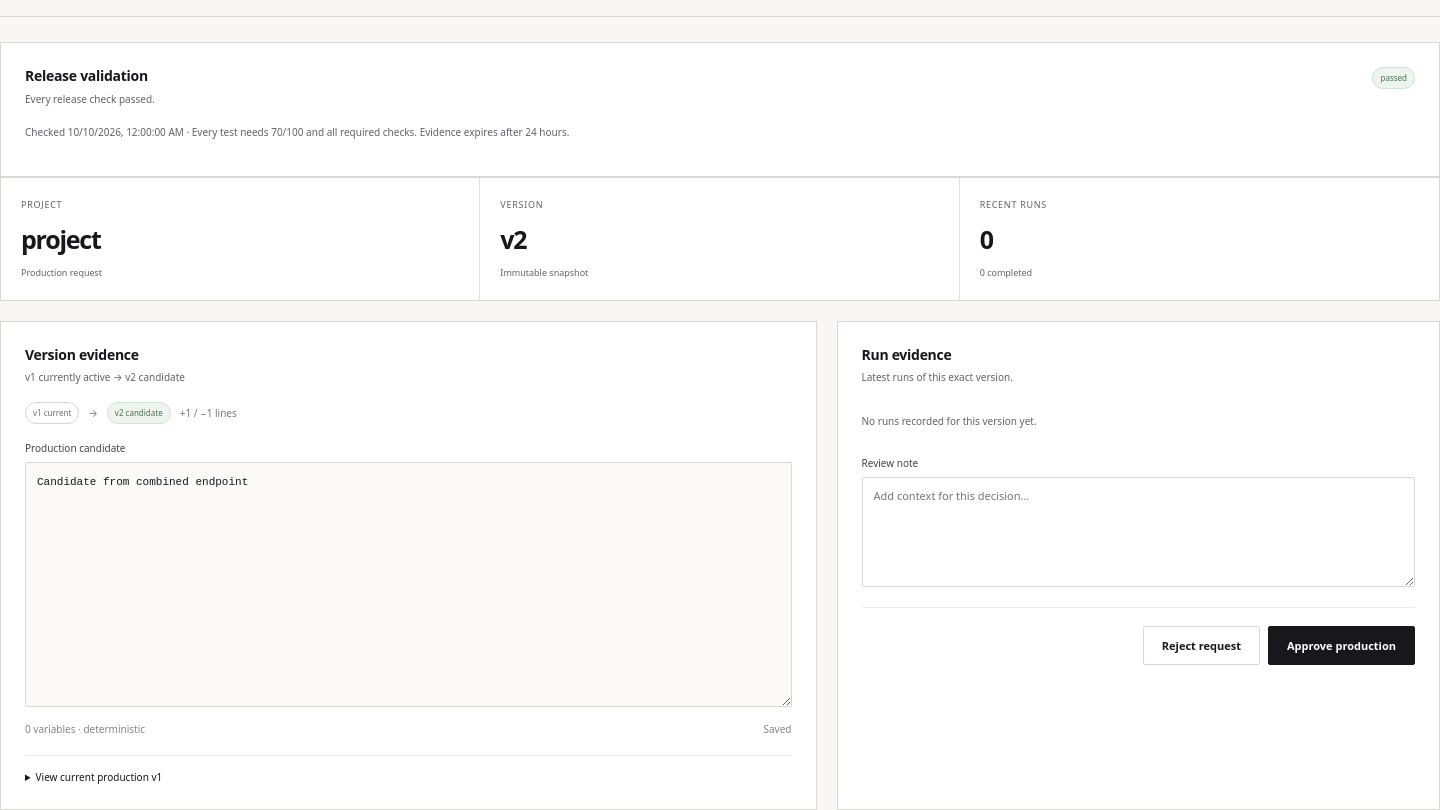
Scenario: prevents repeated reject submissions and refreshes queue/review after completion
The image size is (1440, 810).
(page scrolled)
expect the text box showing "Candidate from combined endpoint" is shown: met, box [25,462,792,707]
Type "My review" into the text box labelled "Review note" at (1138, 532), box [862,477,1415,587]
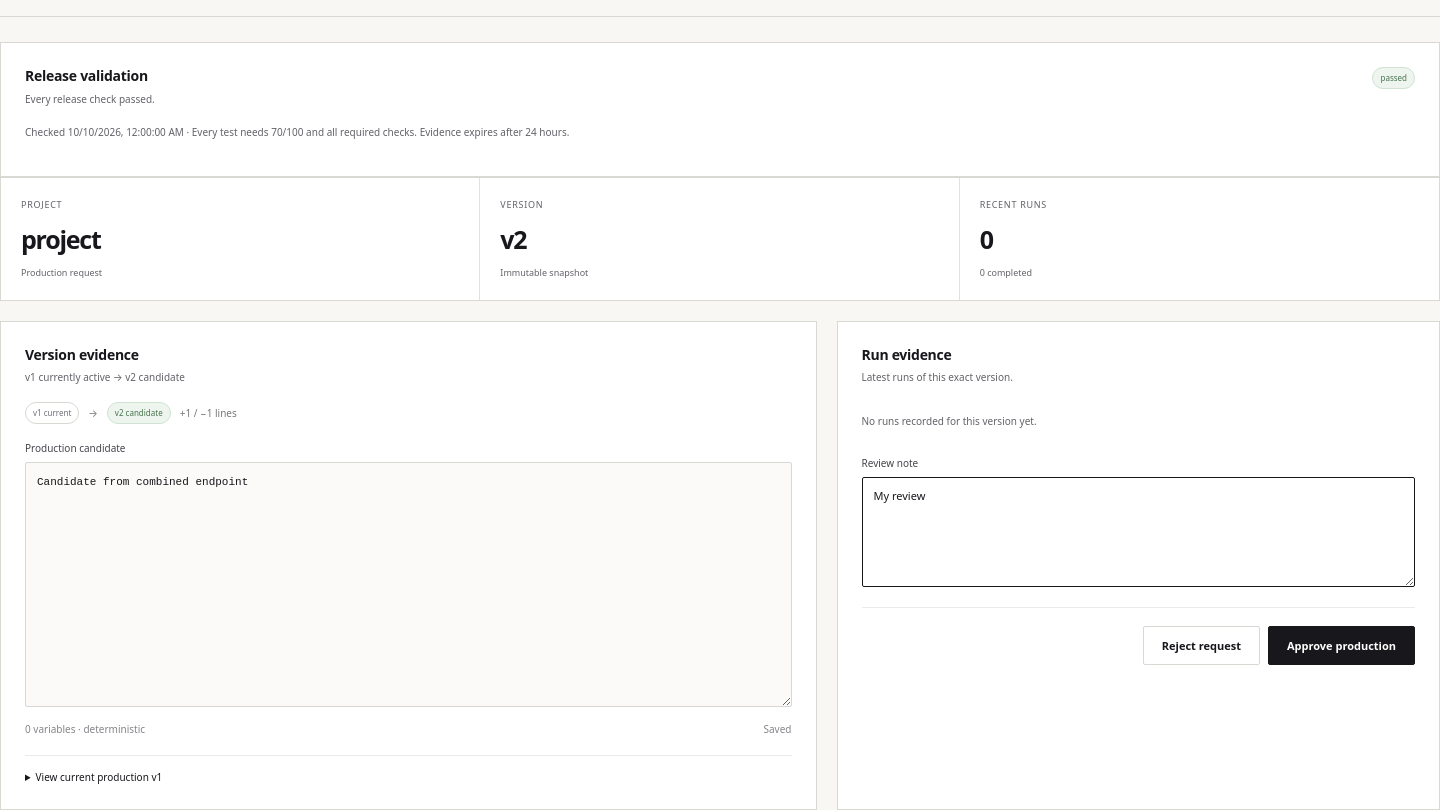
Click the button "Reject request" at (1201, 646), box [1143,626,1260,666]
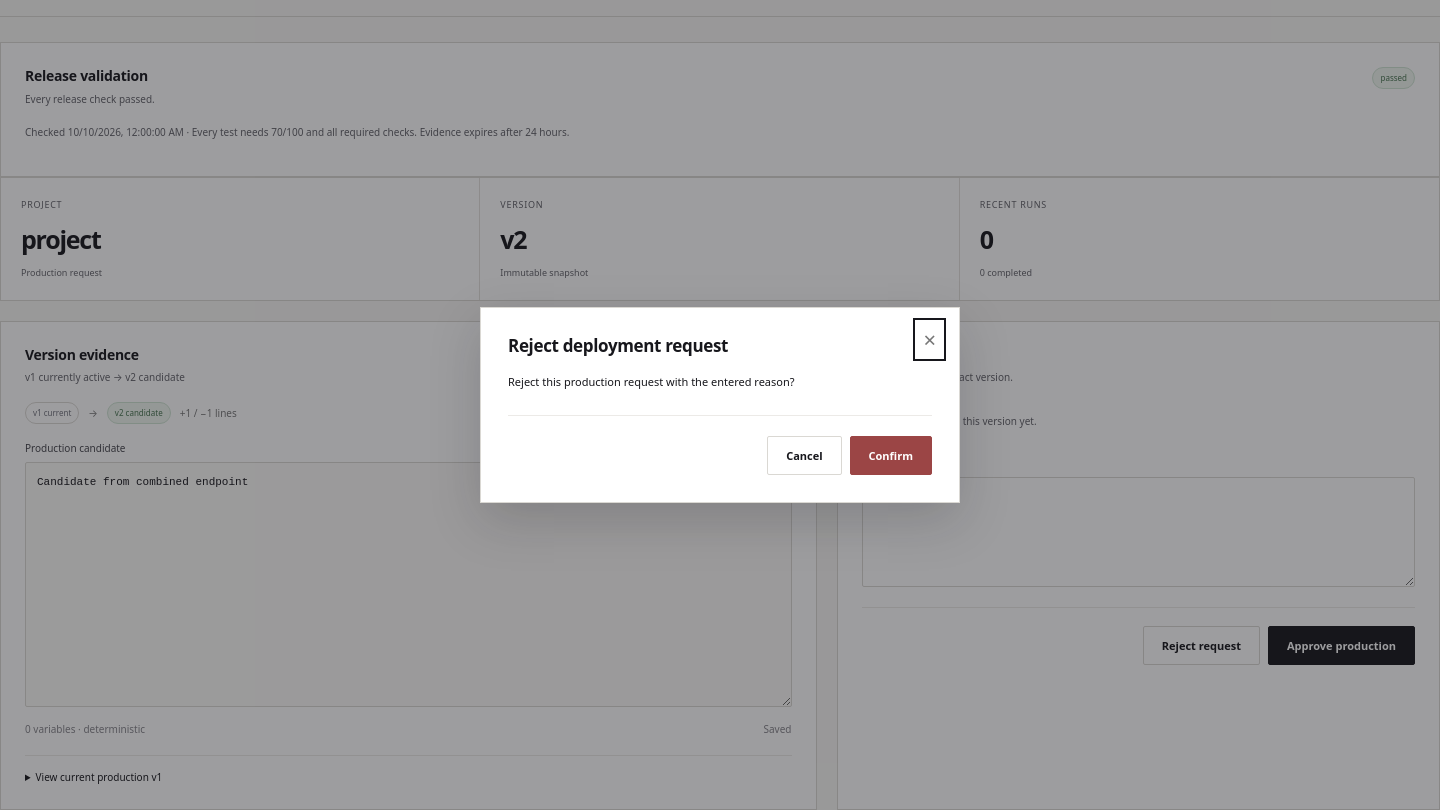
Click the button "Confirm" at (891, 456), box [850,436,932,476]
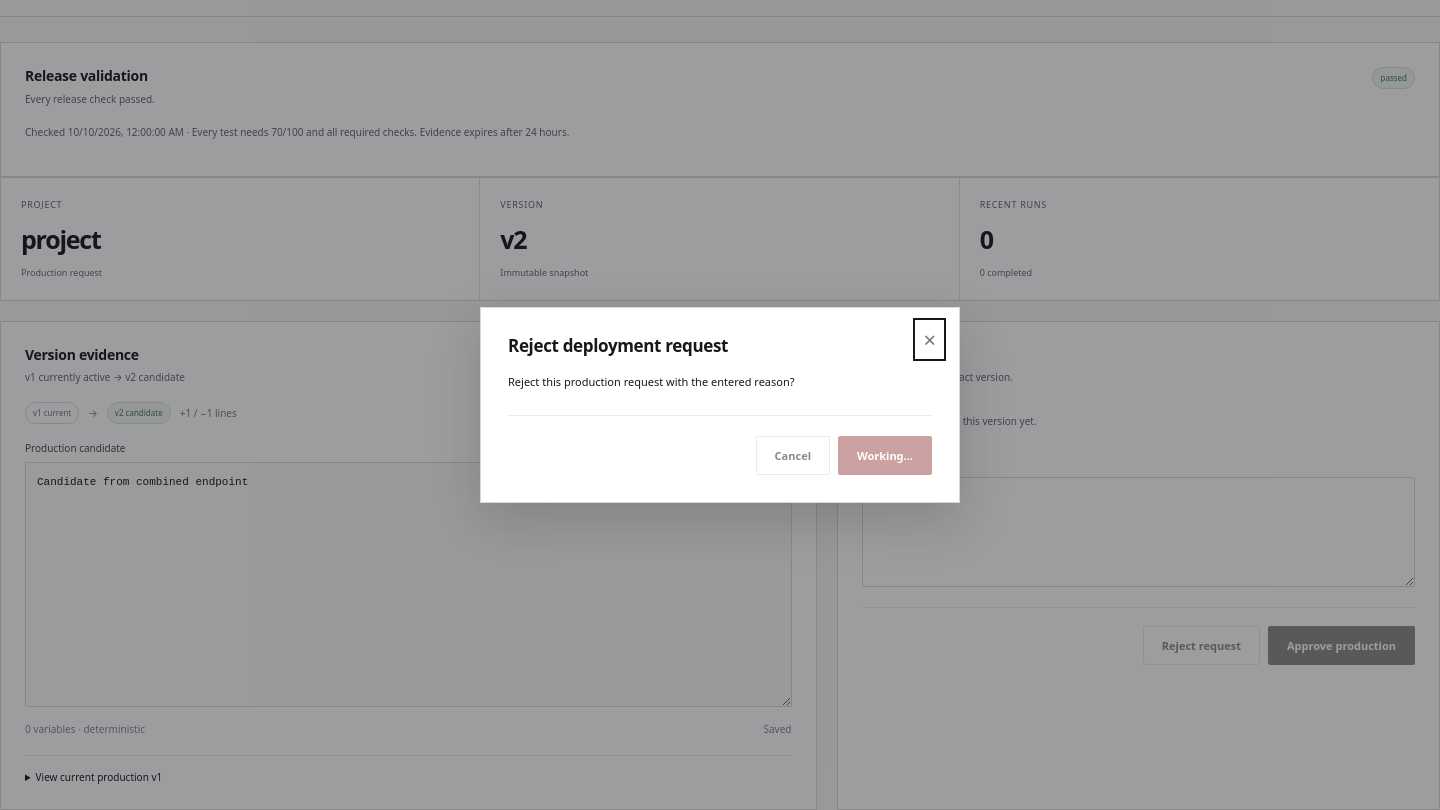
Click the button named "Confirm" at (885, 456), box [838,436,932,476]
(page scrolled)
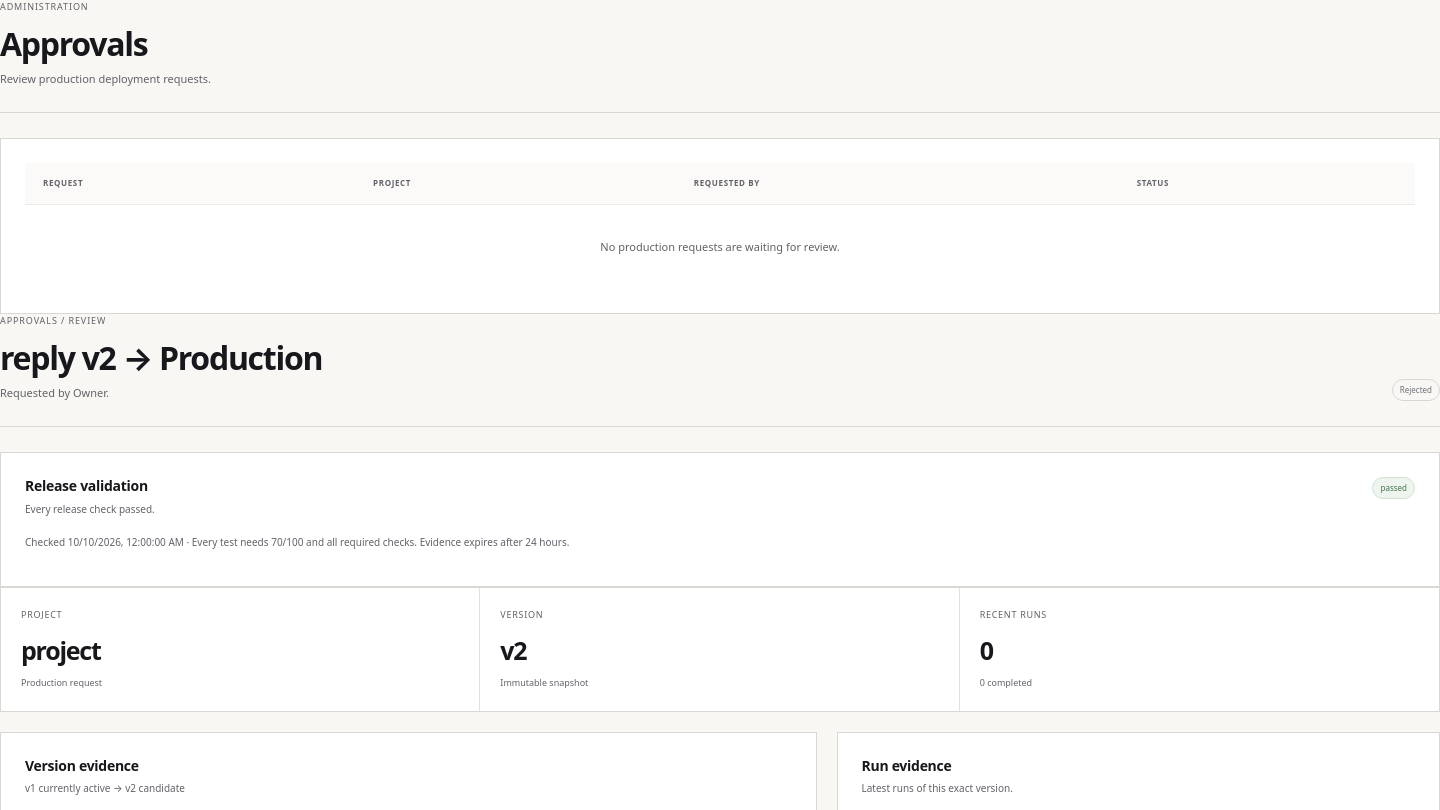
expect the text "No production requests are waiting for review." is shown: met, box [600,239,840,254]
expect the button "Approve production" is gone: met
